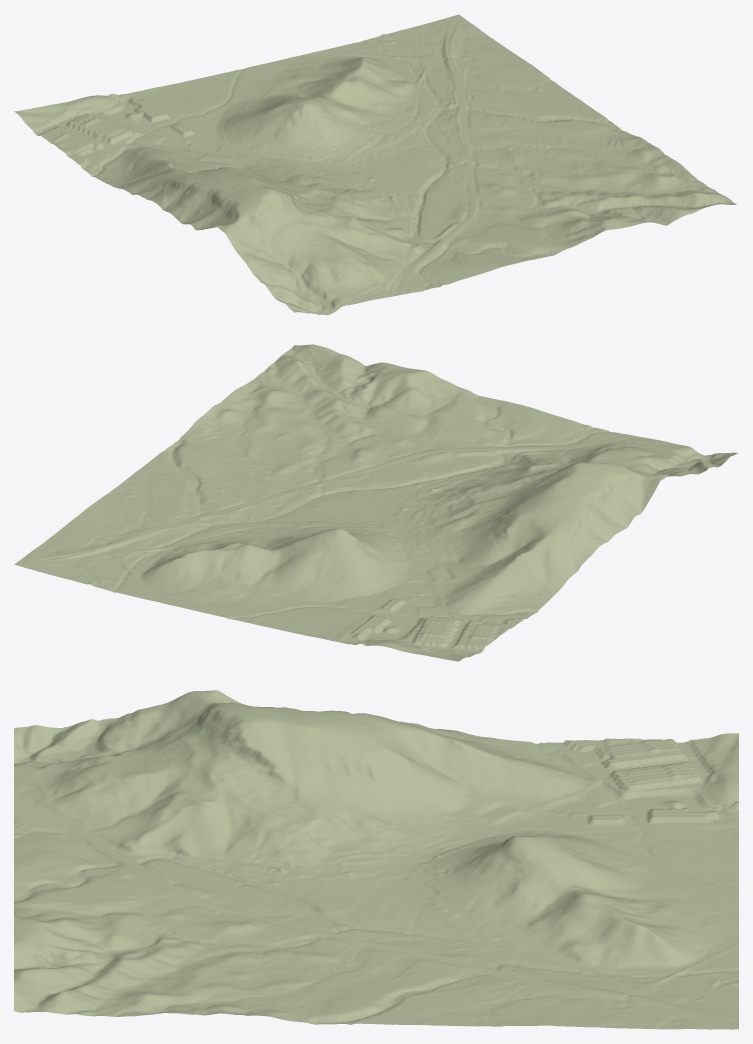
File: terrain-game-257.glb
3 renders of one model, top to bottom at view 1: azimuth 30°, elevation 25°; view 2: azimuth 150°, elevation 25°; view 3: azimuth 270°, elevation 25°, orthographic. The views are drawn at different scales.
Parts seen in each view (by area): view 1: La Pobla Tornesa ground — current game extent; view 2: La Pobla Tornesa ground — current game extent; view 3: La Pobla Tornesa ground — current game extent.
Part boxes in pixels (bbox=[...]): La Pobla Tornesa ground — current game extent: bbox=[14, 14, 736, 315]; La Pobla Tornesa ground — current game extent: bbox=[14, 344, 738, 661]; La Pobla Tornesa ground — current game extent: bbox=[14, 690, 738, 1029].
Bounding box in the file's own units: 1431 × 178 × 1558.
